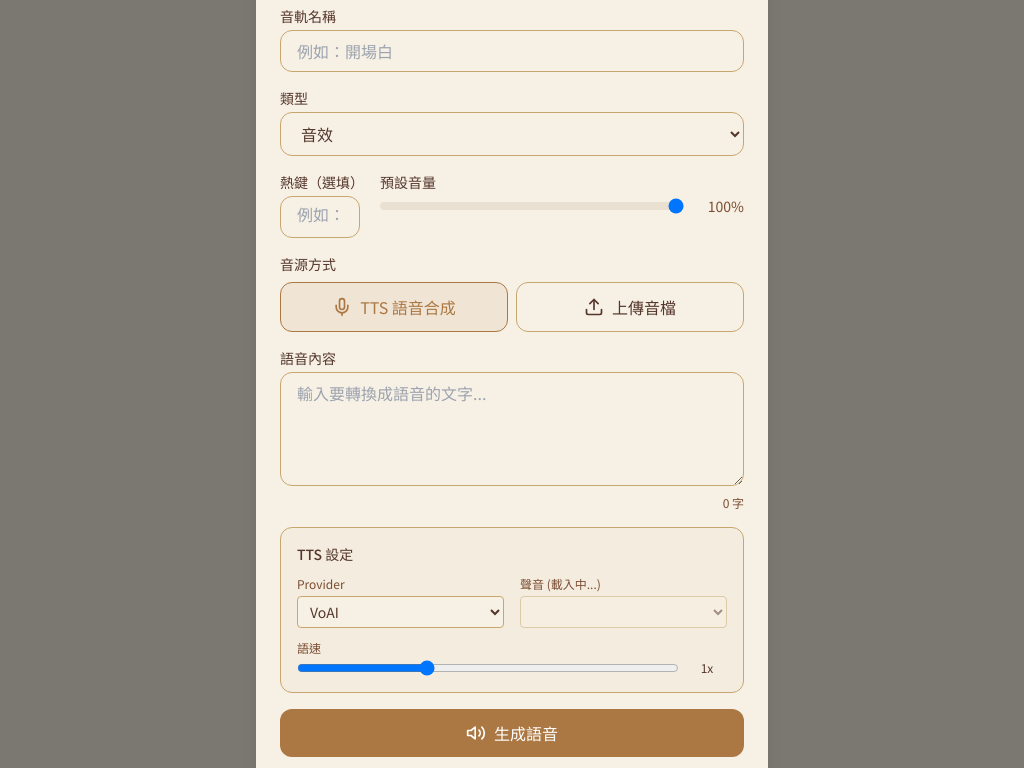
Test: TrackEditorModal › Audio source mode toggle › hides TTS section when in Upload mode
What coordinates should you click on to do the following:
click the button "上傳音檔"
I would click on:
 (630, 306)
Its box is [516, 282, 744, 332].
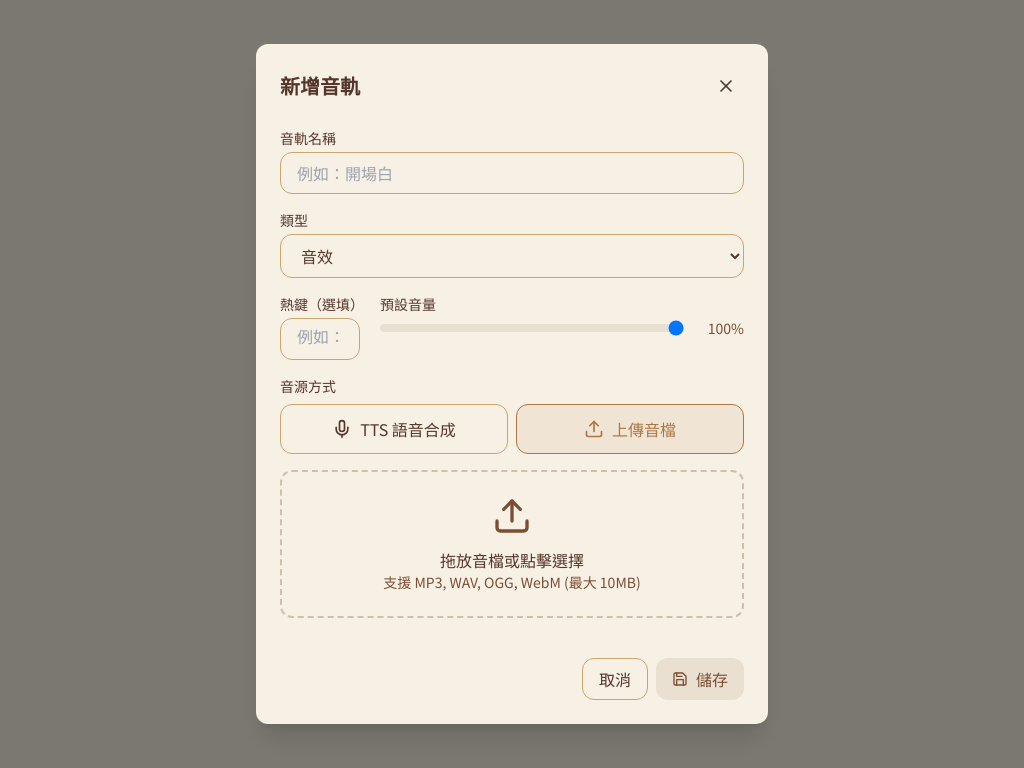
expect the text box with placeholder "輸入要轉換成語音的文字..." is gone: met
expect the heading "TTS 設定" is gone: met
